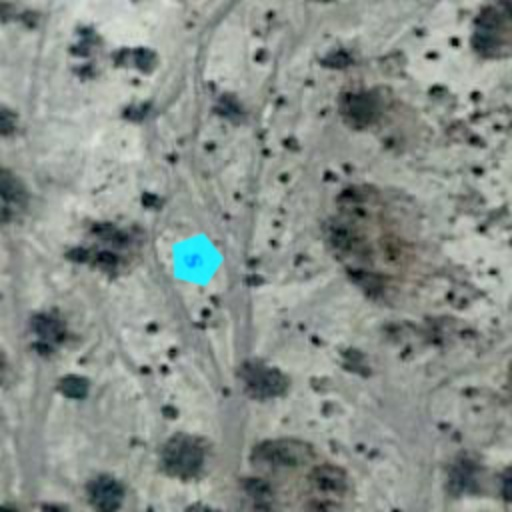pentagon: (158, 222, 234, 298)
